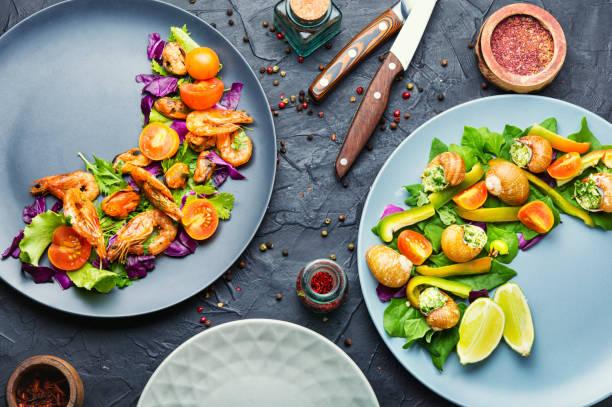Braised Crucian Carp: (1, 0, 278, 319), (358, 92, 609, 405)
